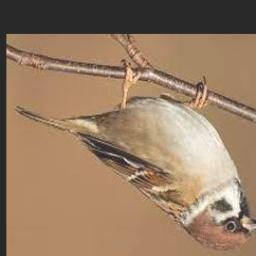Sparrow: (15, 60, 256, 251)
